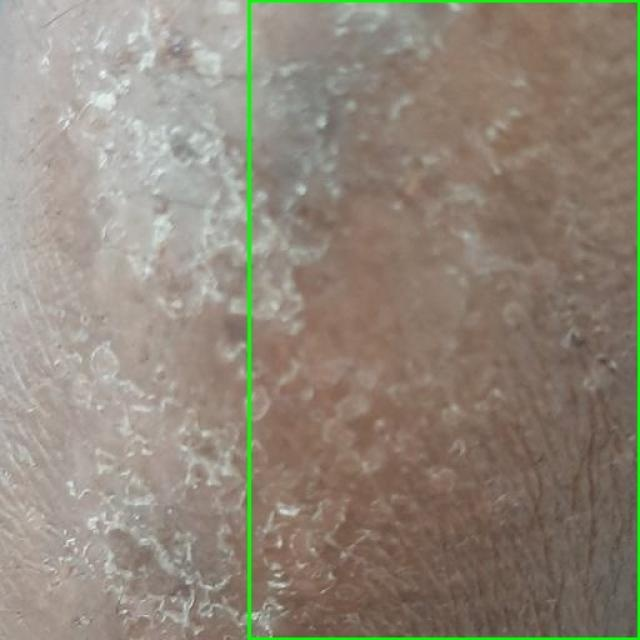Eczema: (249, 0, 639, 639)
